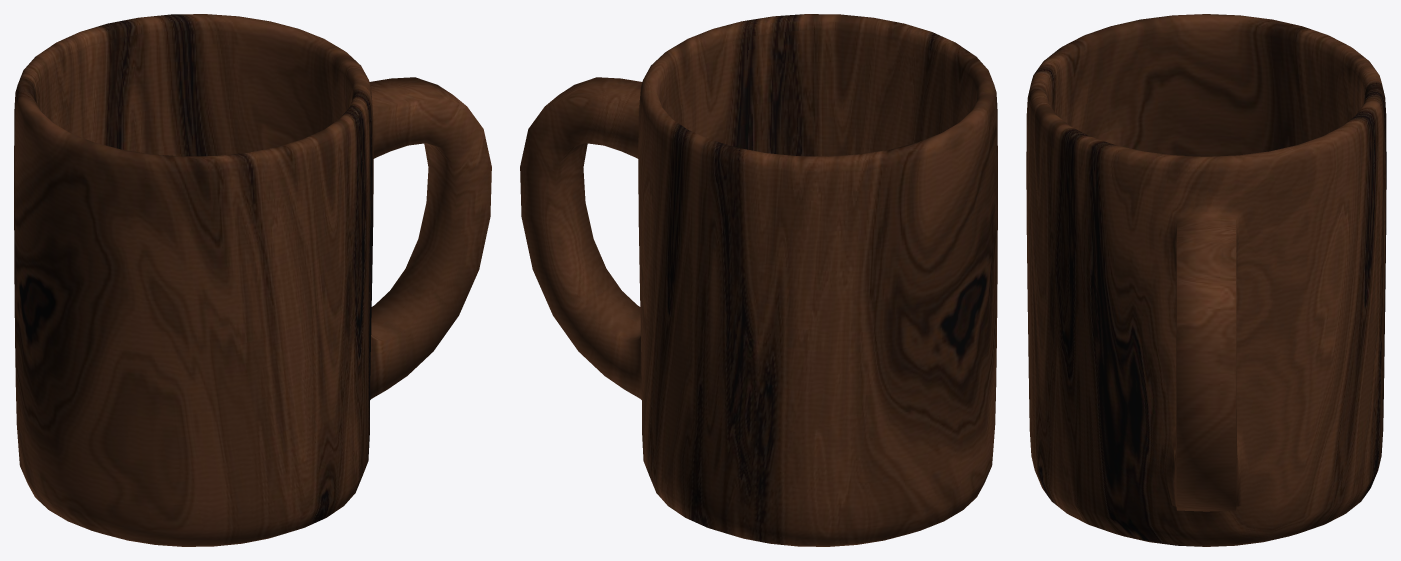
Rendered from NormalCup1.fbx.
3 views of the same model, side by side, from view 1: azimuth 30°, elevation 25°; view 2: azimuth 150°, elevation 25°; view 3: azimuth 270°, elevation 25° (orthographic).
Visible parts, largest first — view 1: cup03; view 2: cup03; view 3: cup03.
Boxes of the visible parts, x1,y1,x2,y2 form: cup03: (14, 14, 491, 546); cup03: (520, 14, 997, 546); cup03: (1026, 14, 1386, 546).
Size of the model in its own units: 315 by 275 by 223.
